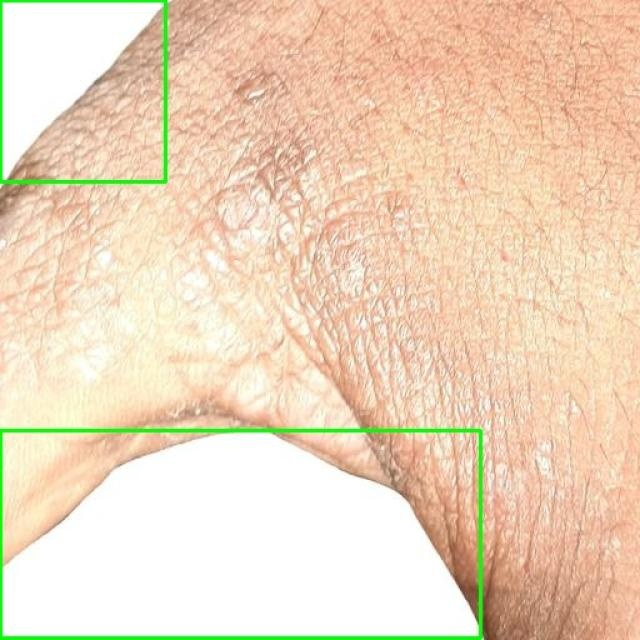Scabies: (0, 431, 481, 639), (0, 0, 165, 181)
